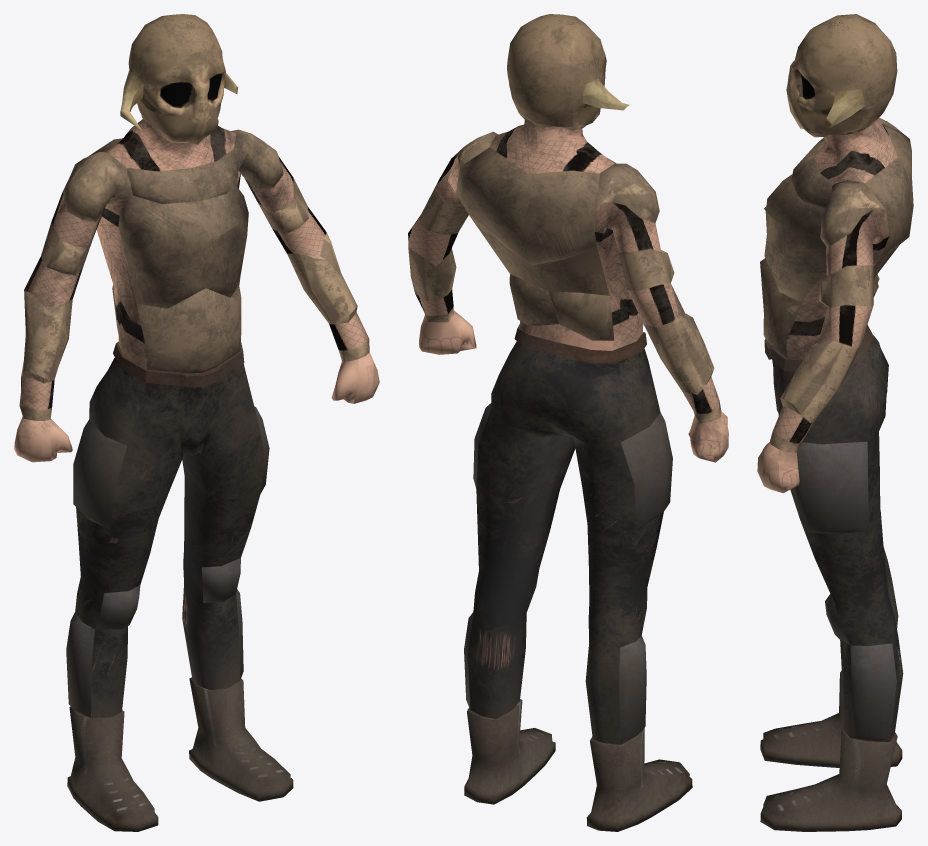
Rendered from Anim_idle_npc1.0054.obj.
3 views of the same model, side by side, from view 1: azimuth 30°, elevation 25°; view 2: azimuth 150°, elevation 25°; view 3: azimuth 270°, elevation 25° (orthographic).
Parts seen in each view (by area): view 1: NPC2; view 2: NPC2; view 3: NPC2.
Part boxes in pixels (bbox=[...]): NPC2: bbox=[14, 14, 379, 831]; NPC2: bbox=[408, 14, 728, 831]; NPC2: bbox=[757, 14, 913, 831].
Size of the model in its own units: 4.35 by 9.66 by 1.76.
